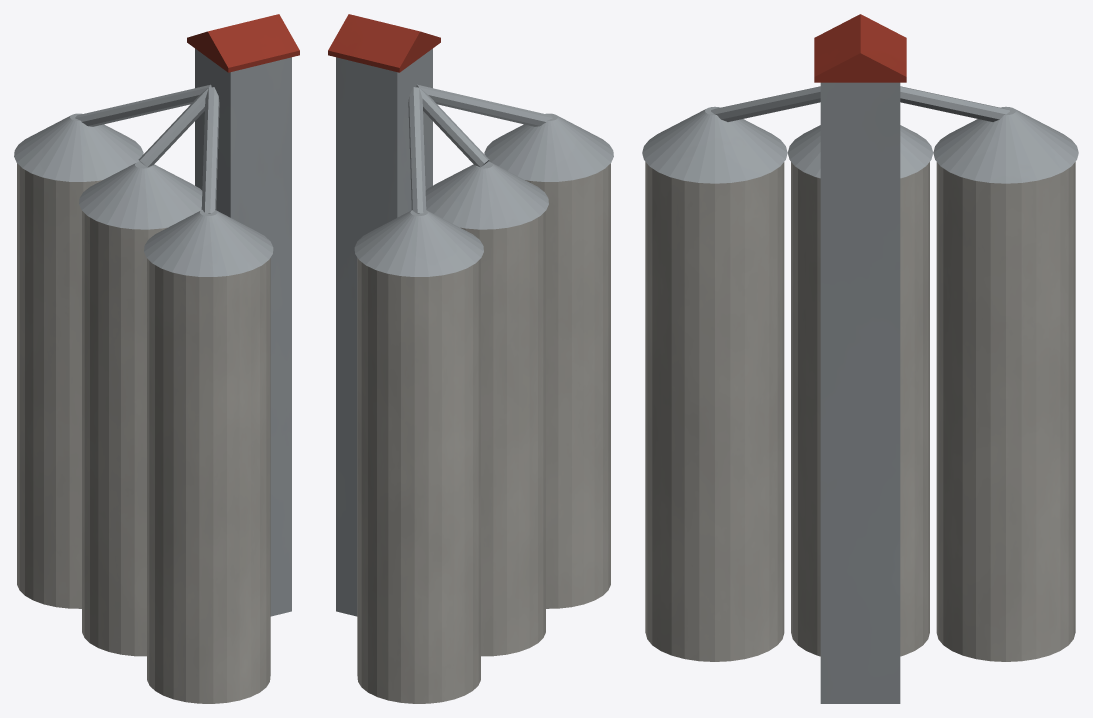
Rendered from pv_silo.glb.
The picture shows the model from 3 angles, left to right: view 1: azimuth 30°, elevation 25°; view 2: azimuth 150°, elevation 25°; view 3: azimuth 270°, elevation 25°; orthographic projection. The views are drawn at different scales.
Parts seen in each view (by area): view 1: dum; view 2: dum; view 3: dum.
Boxes of the visible parts, x1,y1,x2,y2 form: dum: (14, 14, 299, 703); dum: (328, 14, 613, 703); dum: (642, 14, 1078, 703).
Size of the model in its own units: 7.48 by 21.74 by 13.17.
Materials: 1 (1 with a texture image).
